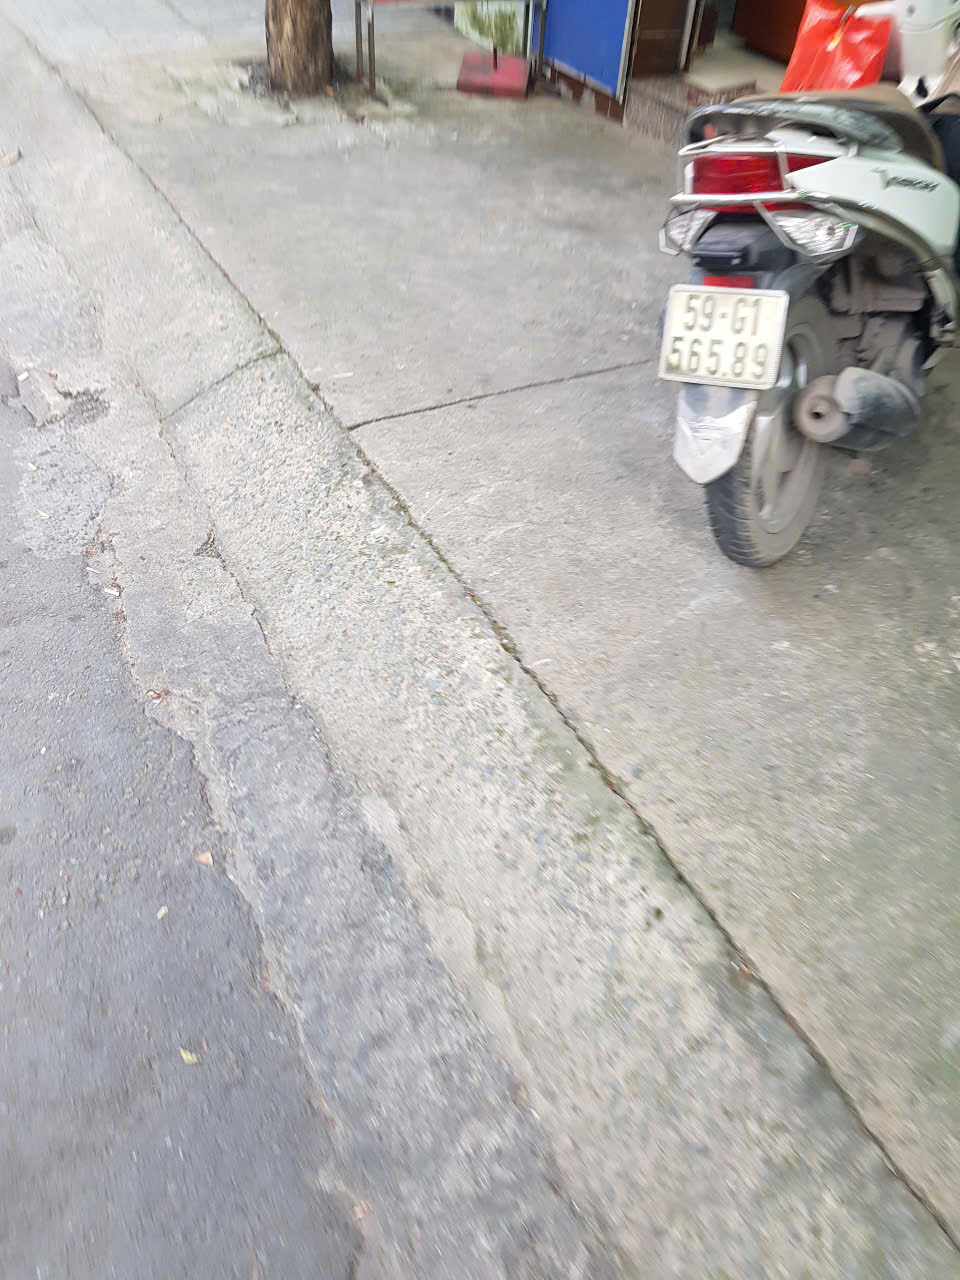bien_so: (660, 287, 788, 390)
